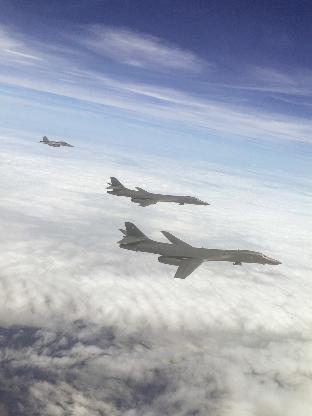AV8B: (115, 221, 280, 278), (104, 176, 208, 206)
F15: (37, 136, 73, 146)
